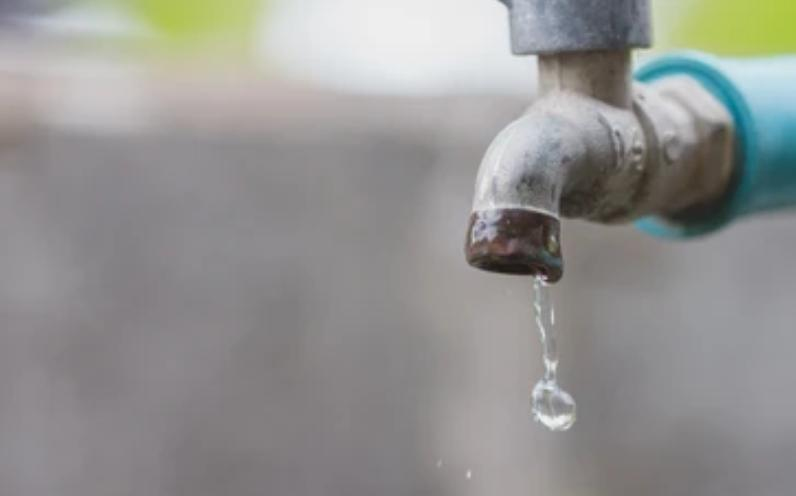water drop: (531, 272, 580, 430)
